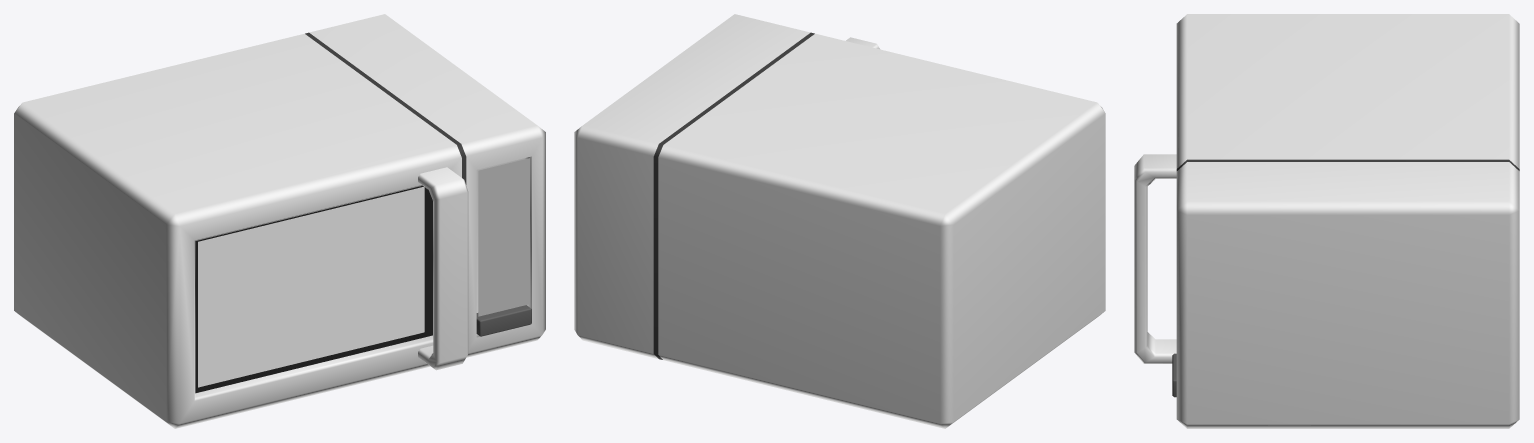
The model's file is electronics_021.fbx.
The picture shows the model from 3 angles, left to right: view 1: azimuth 30°, elevation 25°; view 2: azimuth 150°, elevation 25°; view 3: azimuth 270°, elevation 25°; orthographic projection. The views are drawn at different scales.
Parts seen in each view (by area): view 1: electronics_021; view 2: electronics_021; view 3: electronics_021.
Boxes of the visible parts, left/top/right/bottom form: electronics_021: left=14, top=14, right=545, bottom=428; electronics_021: left=574, top=14, right=1105, bottom=428; electronics_021: left=1134, top=14, right=1519, bottom=428.
Bounding box in the file's own units: 65.45 × 54.35 × 35.44.
